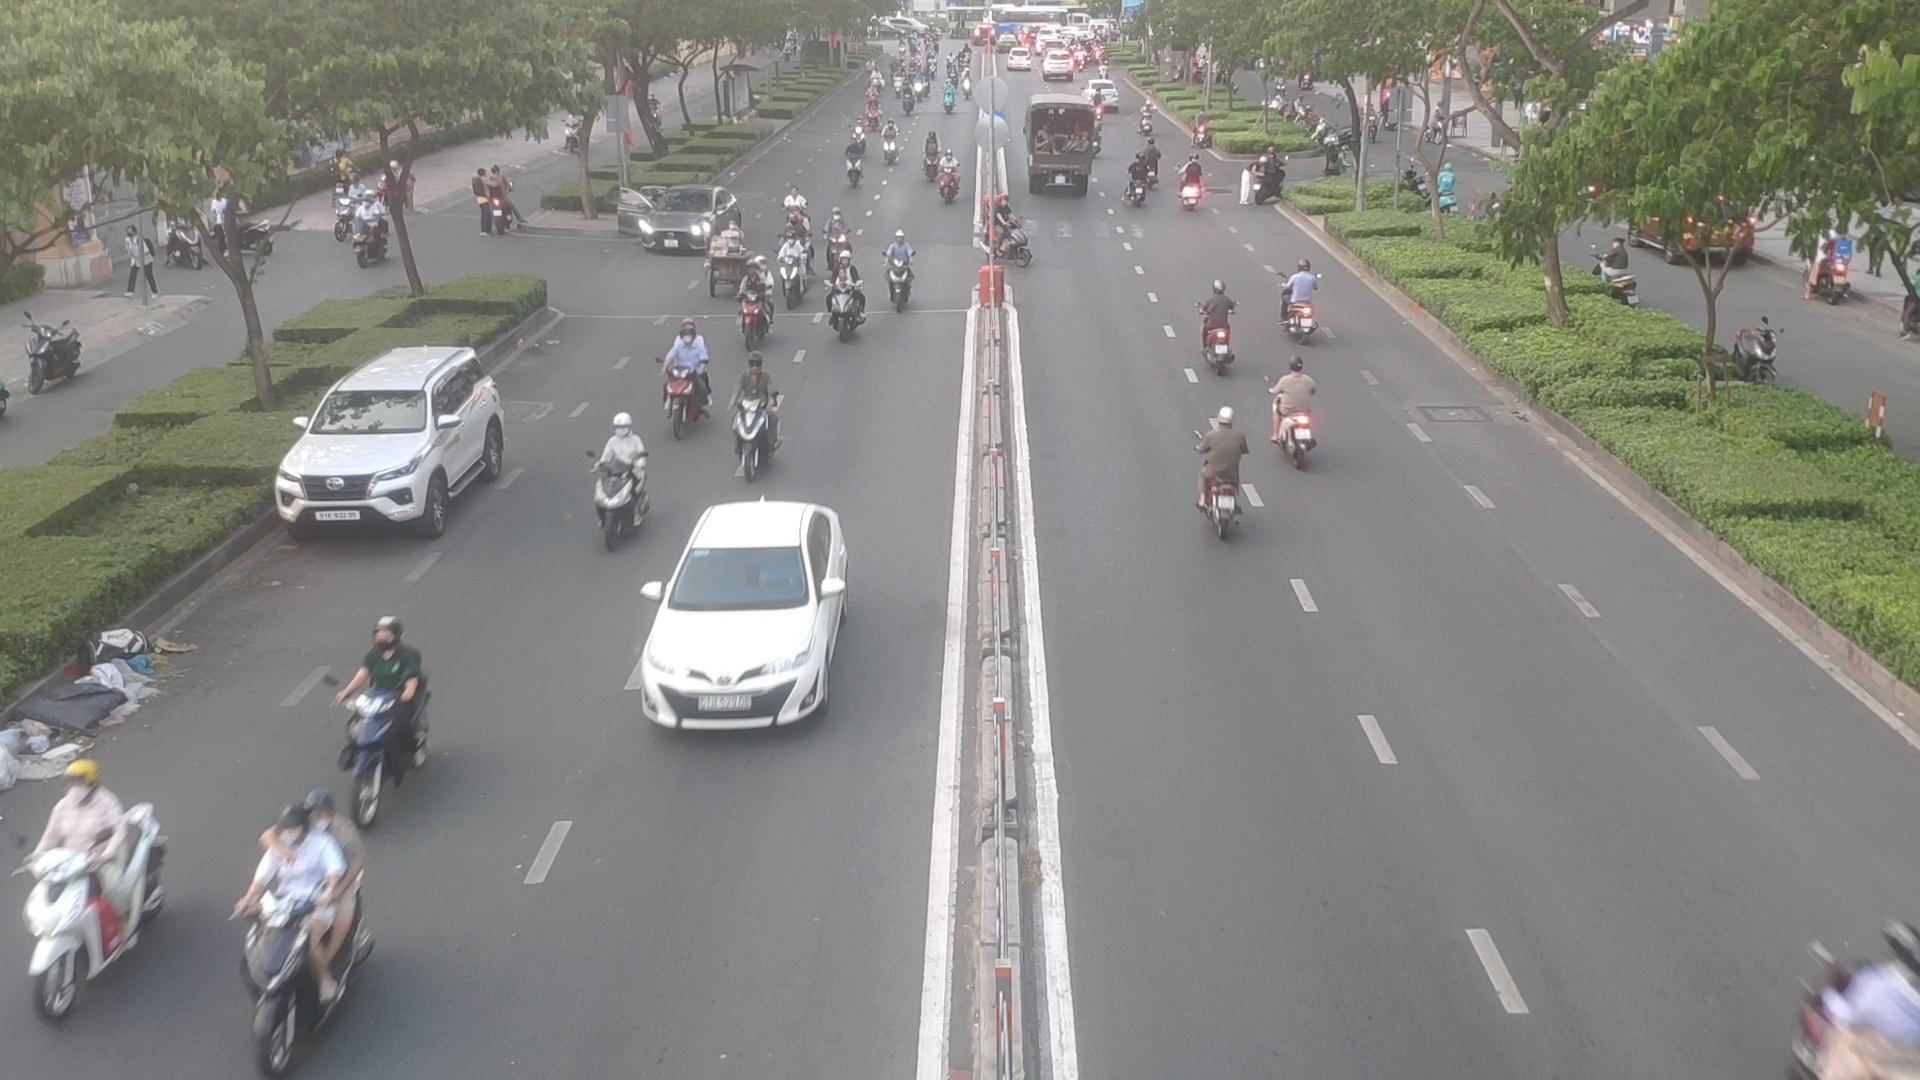car: (618, 502, 853, 729), (278, 344, 520, 529), (615, 191, 740, 258)
motorbike: (7, 775, 169, 1021), (231, 806, 373, 1063), (1788, 922, 1920, 1080), (332, 620, 442, 775), (1193, 415, 1265, 527), (585, 418, 653, 535), (653, 327, 713, 429), (731, 360, 789, 465), (1266, 368, 1328, 462), (1197, 286, 1247, 372), (982, 199, 1042, 269), (1276, 262, 1327, 342), (827, 262, 872, 348), (877, 227, 920, 313), (1125, 154, 1160, 208), (1175, 160, 1208, 211), (934, 156, 967, 204), (841, 146, 869, 191)
